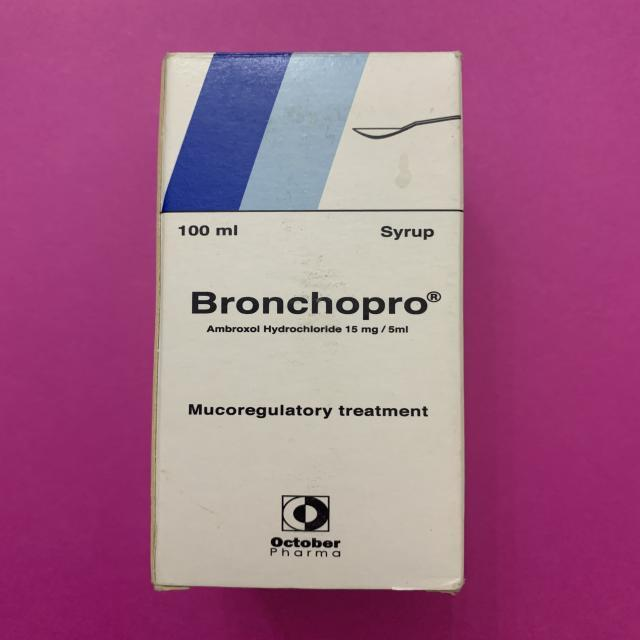Medicine Name: (186, 286, 429, 326)
